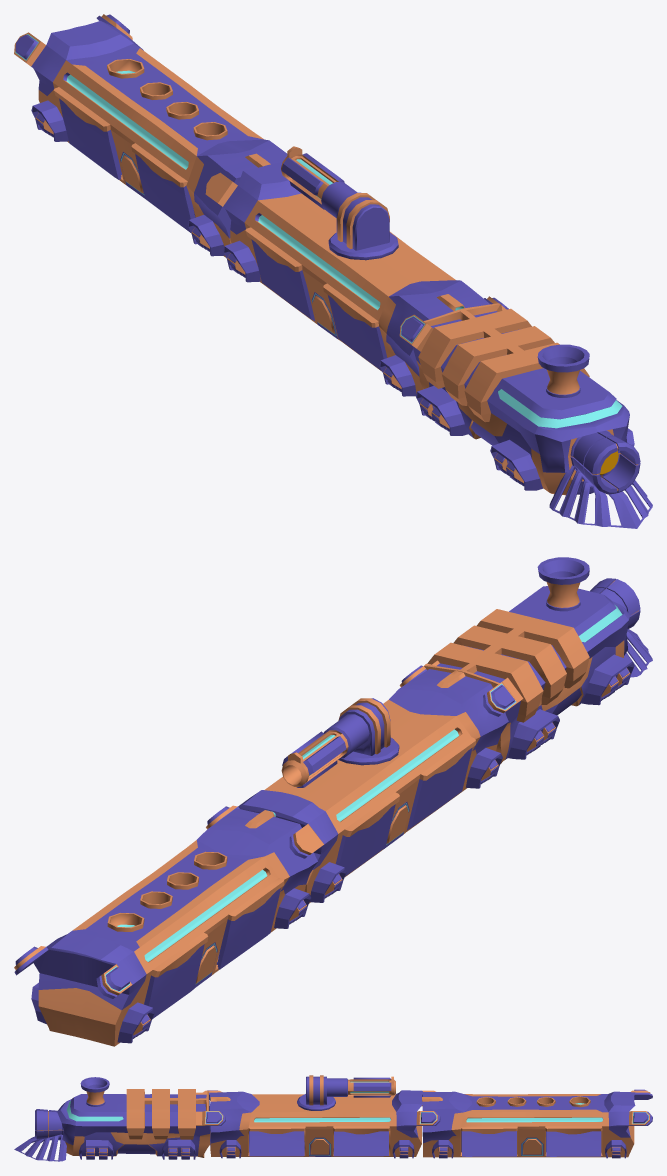
File: TrainRedesigned.fbx
The picture shows the model from 3 angles, top to bottom: view 1: azimuth 30°, elevation 25°; view 2: azimuth 150°, elevation 25°; view 3: azimuth 270°, elevation 25°; orthographic projection. The views are drawn at different scales.
Visible parts, largest first — view 1: FrontCar, BackCar, MidCar, Train_Cannon; view 2: BackCar, MidCar, FrontCar, Train_Cannon; view 3: BackCar, MidCar, FrontCar, Train_Cannon.
Boxes of the visible parts, x1,y1,x2,y2 form: FrontCar: (399, 296, 652, 528); BackCar: (14, 14, 287, 257); MidCar: (205, 161, 489, 396); Train_Cannon: (281, 146, 398, 260); BackCar: (14, 808, 317, 1046); MidCar: (206, 669, 508, 903); FrontCar: (399, 557, 652, 763); Train_Cannon: (281, 698, 399, 787); BackCar: (422, 1089, 652, 1158); MidCar: (210, 1090, 440, 1158); FrontCar: (14, 1077, 225, 1161); Train_Cannon: (297, 1075, 395, 1110).
Size of the model in its own units: 1780 by 1905 by 14731.
